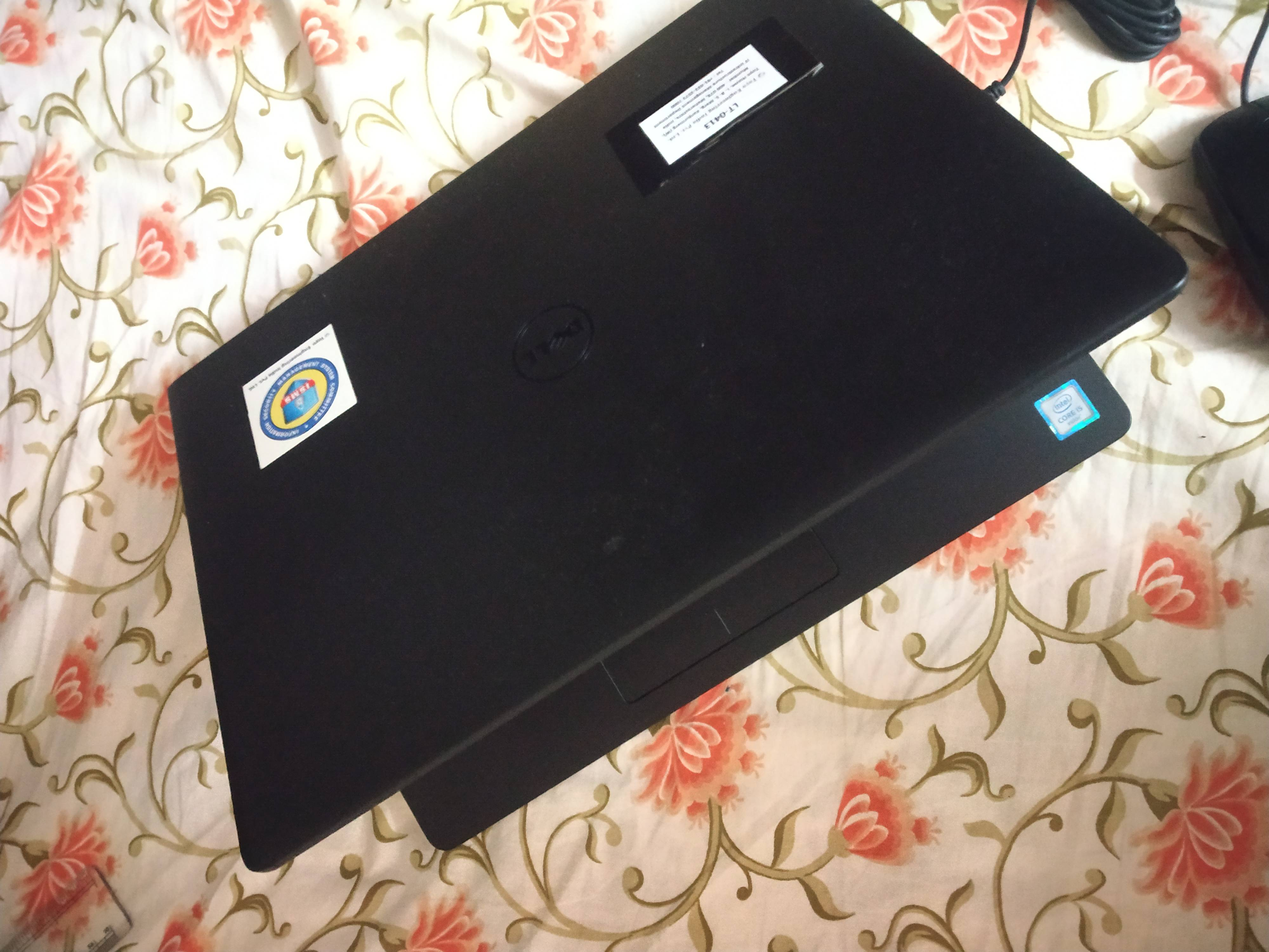Electronics: (158, 0, 1202, 893)
